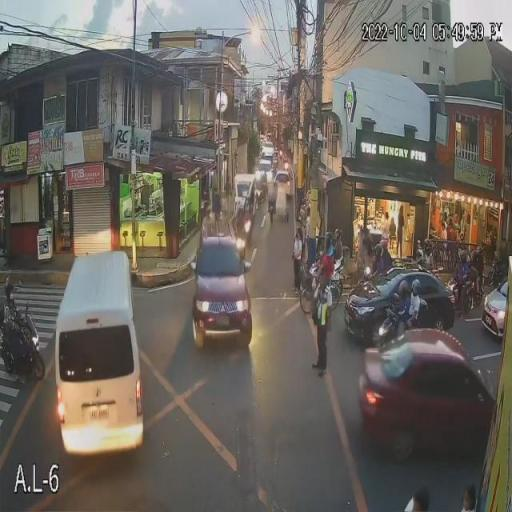helmet: (4, 276, 22, 302)
motorcycle: (0, 316, 47, 382)
rider: (2, 300, 28, 372)
